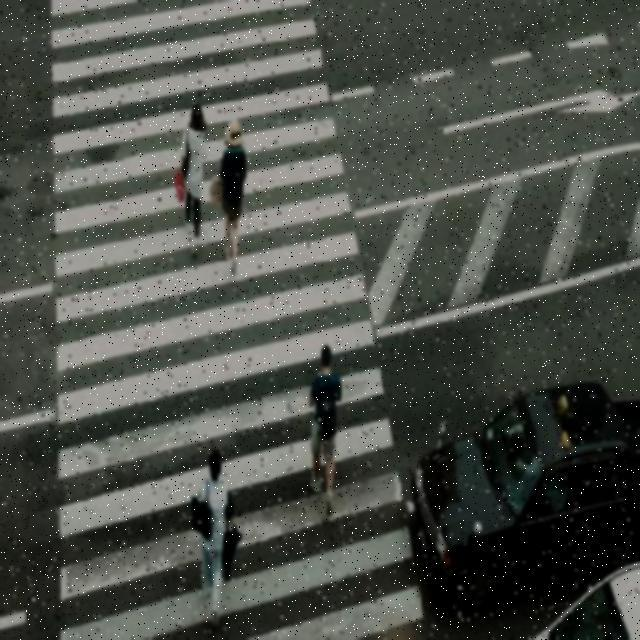crosswalk: (38, 0, 429, 638)
